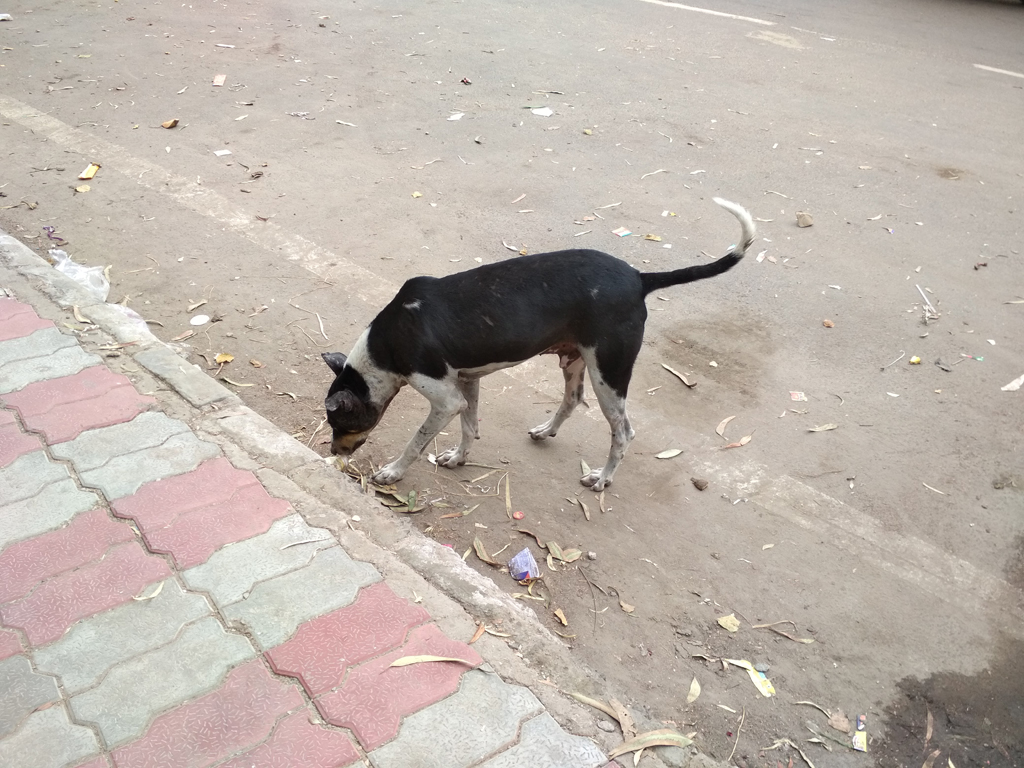dog: (321, 195, 756, 493)
